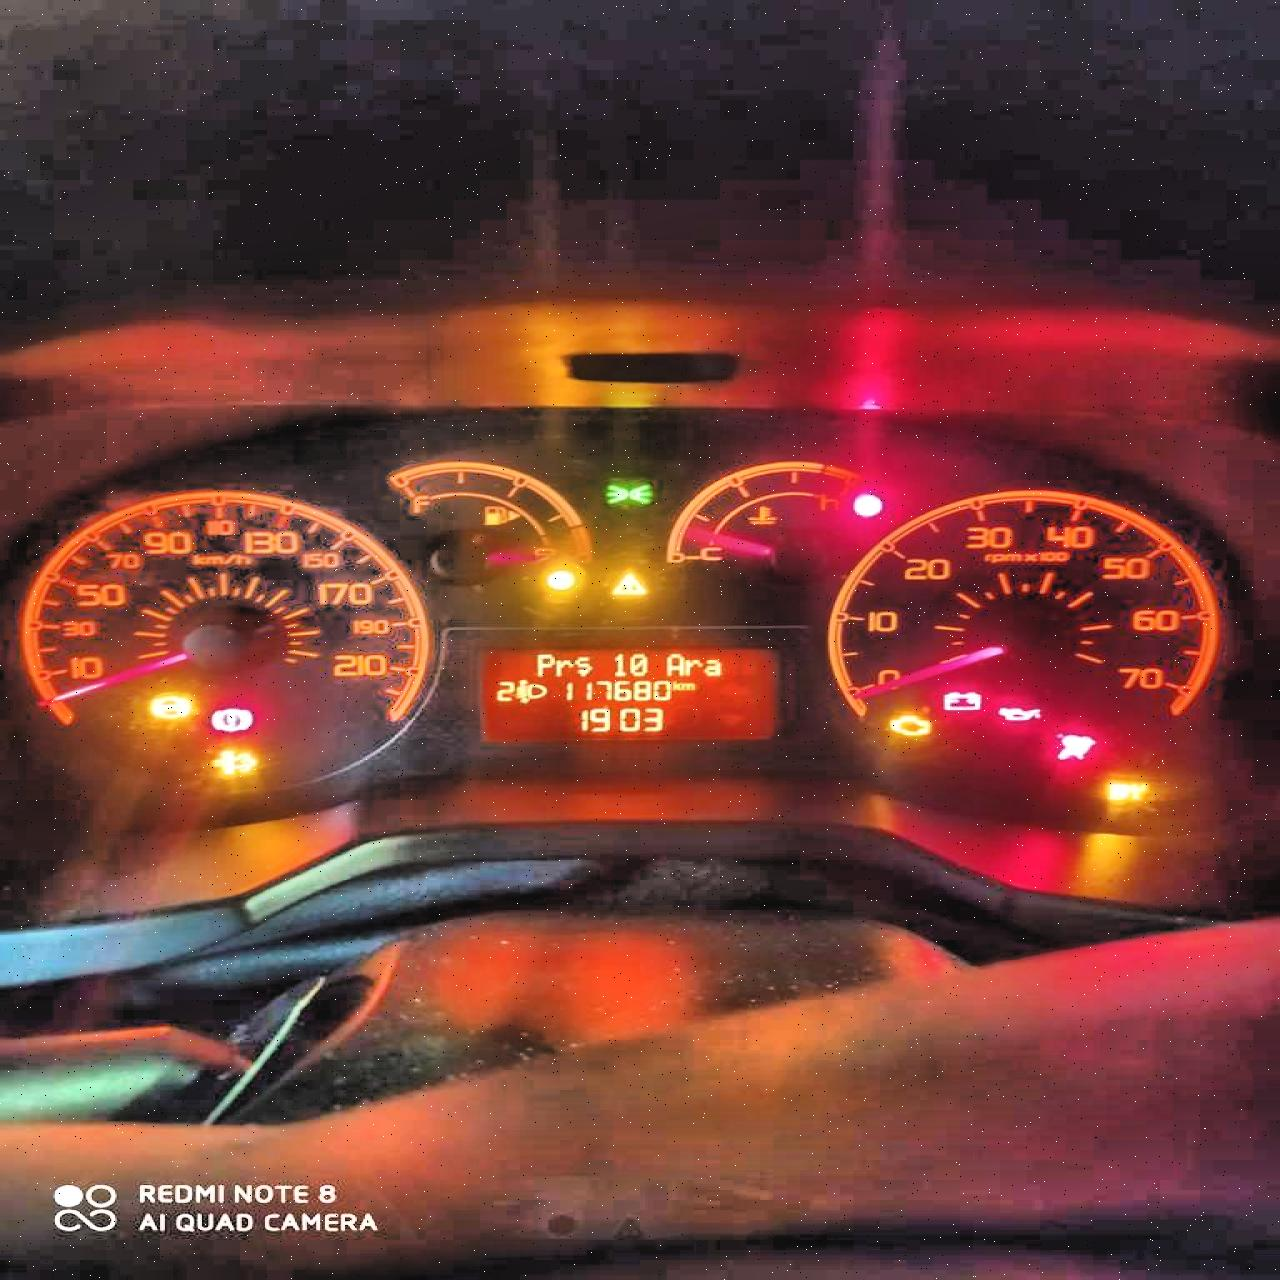0: (617, 704, 640, 731), (627, 652, 648, 676), (652, 678, 670, 701)
1: (611, 652, 627, 678), (578, 707, 587, 734), (561, 680, 572, 701), (581, 680, 592, 701)
2: (493, 678, 515, 701)
3: (641, 704, 663, 731)
6: (613, 679, 629, 700)
7: (593, 679, 612, 700)
8: (632, 679, 651, 701)
9: (587, 707, 611, 733)
X: (535, 652, 553, 676), (665, 653, 683, 676), (573, 655, 592, 675), (553, 658, 572, 676), (683, 658, 702, 675), (702, 658, 720, 676), (680, 680, 695, 690), (672, 679, 680, 690)
odometer: (474, 641, 782, 742)
